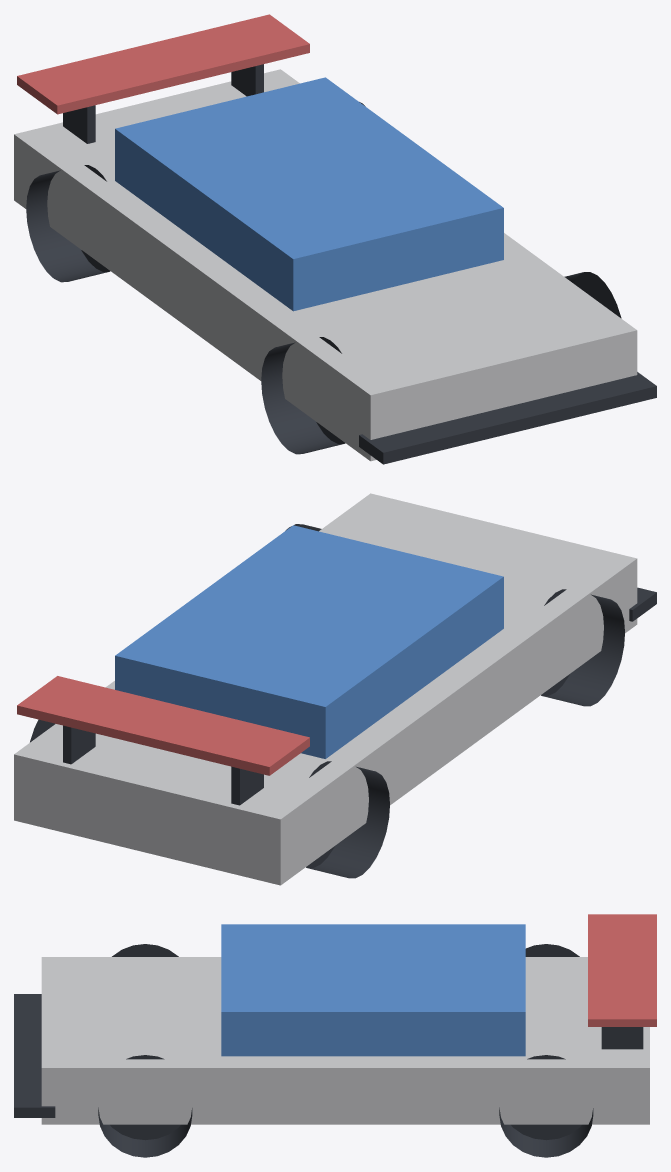
Rendered from car_placeholder.glb.
3 renders of one model, top to bottom at view 1: azimuth 30°, elevation 25°; view 2: azimuth 150°, elevation 25°; view 3: azimuth 270°, elevation 25°, orthographic. The views are drawn at different scales.
Parts seen in each view (by area): view 1: car; view 2: car; view 3: car.
Part boxes in pixels (<box>): car: <box>14,14,656,464</box>; car: <box>14,493,656,885</box>; car: <box>14,914,656,1157</box>.
Bounding box in the file's own units: 2.2 × 1.01 × 4.65.
